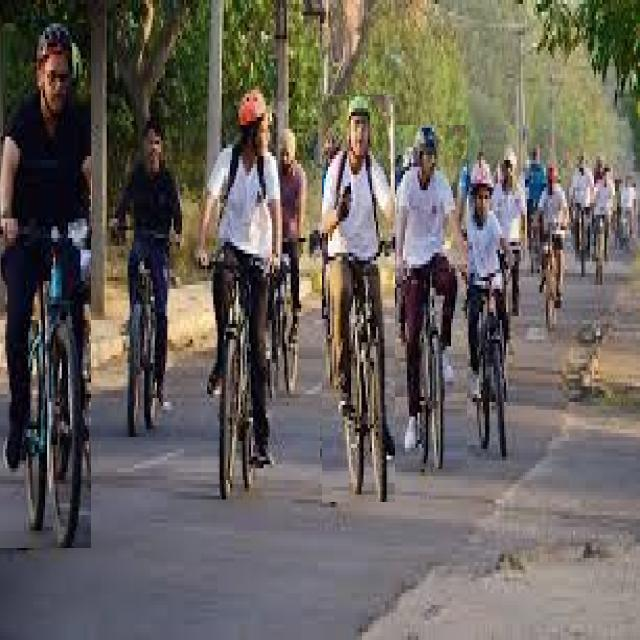bicycle: (0, 24, 91, 548), (198, 89, 281, 496), (322, 95, 395, 502), (396, 126, 467, 469), (115, 119, 182, 433), (468, 161, 510, 456), (269, 128, 306, 395)
